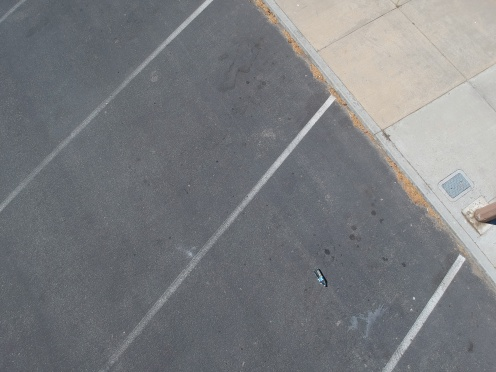bottle: (308, 266, 334, 292)
